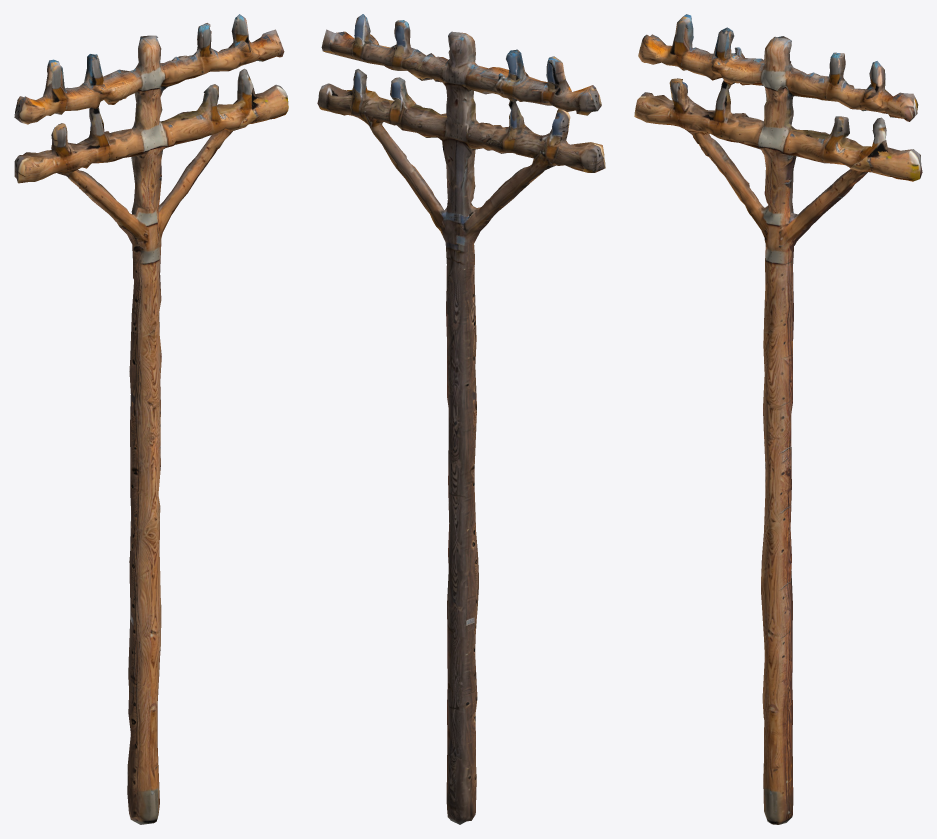
Rendered from Utility_Pole.fbx.
3 views of the same model, side by side, from view 1: azimuth 30°, elevation 25°; view 2: azimuth 150°, elevation 25°; view 3: azimuth 330°, elevation 25° (orthographic).
Parts seen in each view (by area): view 1: Mesh_0; view 2: Mesh_0; view 3: Mesh_0.
Boxes of the visible parts, x1,y1,x2,y2 form: Mesh_0: (14,14,288,824); Mesh_0: (317,14,605,824); Mesh_0: (634,14,922,824).
Bounding box in the file's own units: 44.4 × 120 × 6.3.
Materials: 1 (1 with a texture image).
